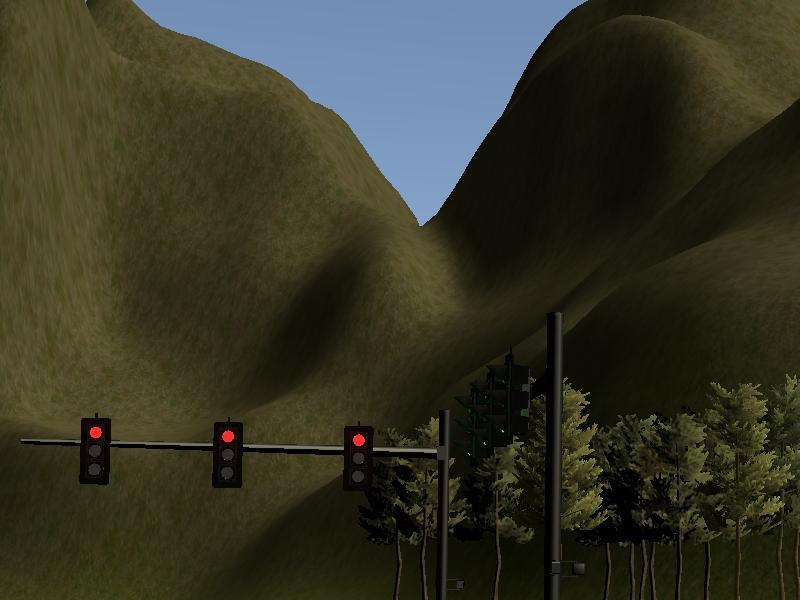red: (80, 417, 109, 484), (344, 427, 372, 492), (213, 423, 241, 487)
